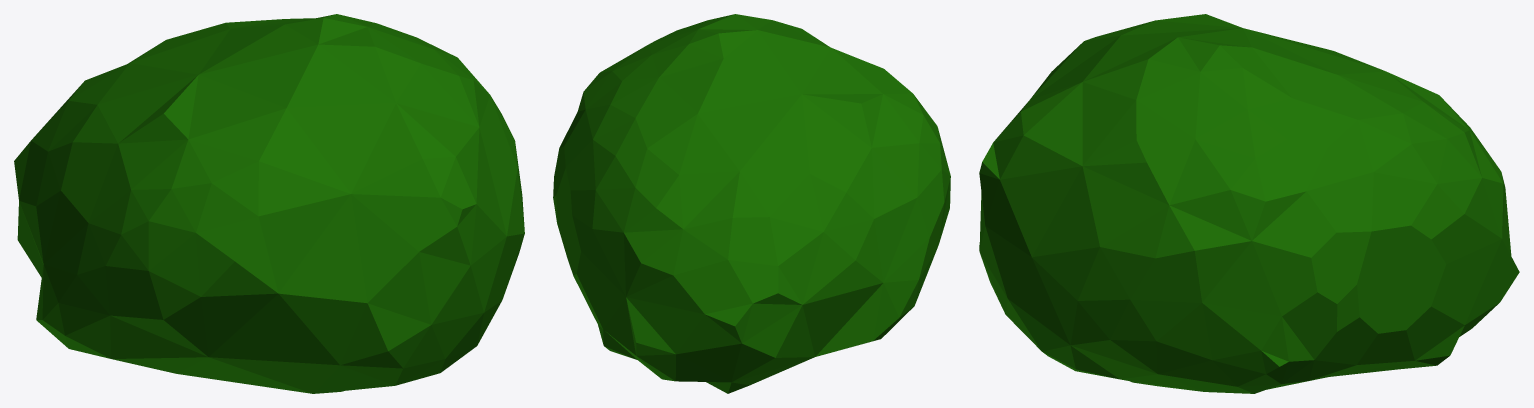
Rendered from moss.fbx.
3 renders of one model, left to right at view 1: azimuth 30°, elevation 25°; view 2: azimuth 150°, elevation 25°; view 3: azimuth 270°, elevation 25°, orthographic. The views are drawn at different scales.
Visible parts, largest first — view 1: Icosphere.001; view 2: Icosphere.001; view 3: Icosphere.001.
Part boxes in pixels (<box>): Icosphere.001: <box>14,14,524,393</box>; Icosphere.001: <box>553,14,950,393</box>; Icosphere.001: <box>979,14,1519,393</box>.
Size of the model in its own units: 199 by 153 by 224.
